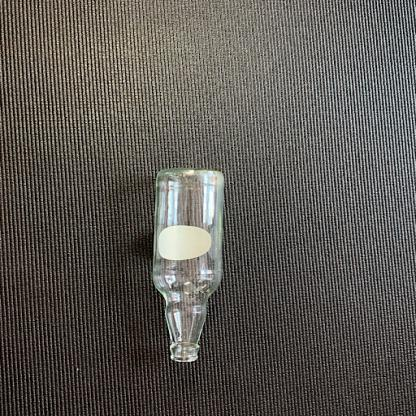trash: (154, 166, 218, 365)
